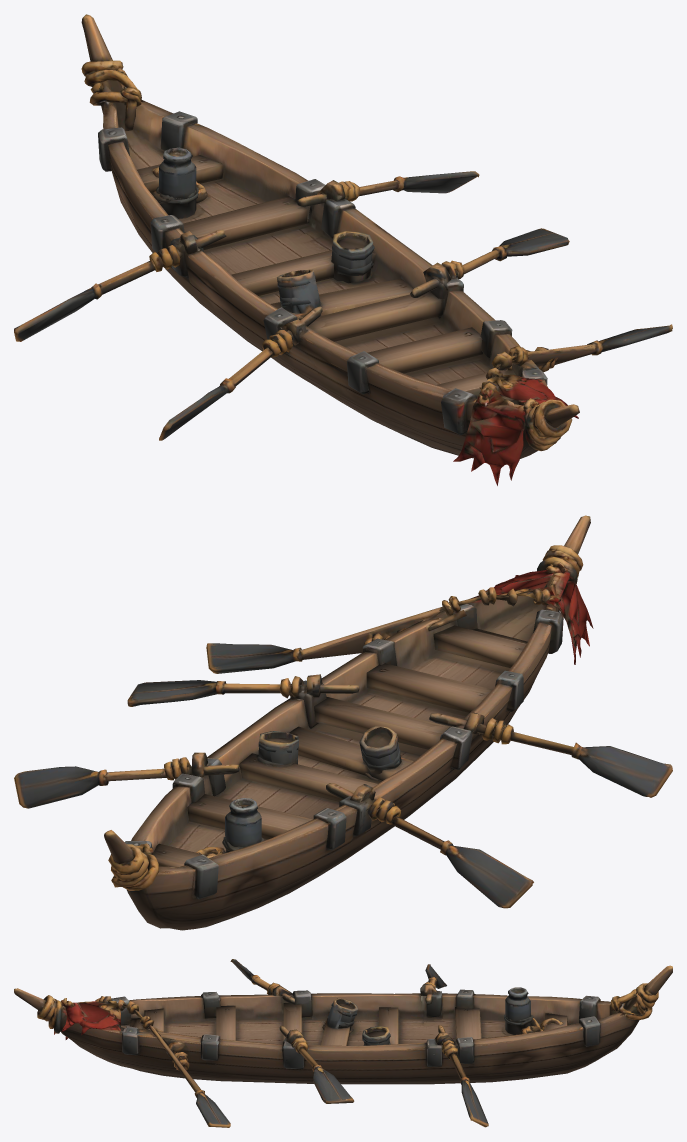
The model's file is scout.glb.
The picture shows the model from 3 angles, top to bottom: view 1: azimuth 30°, elevation 25°; view 2: azimuth 150°, elevation 25°; view 3: azimuth 270°, elevation 25°; orthographic projection. The views are drawn at different scales.
Visible parts, largest first — view 1: tripo_node_17614edd-f20e-4e0a-a458-74e1112fb22d; view 2: tripo_node_17614edd-f20e-4e0a-a458-74e1112fb22d; view 3: tripo_node_17614edd-f20e-4e0a-a458-74e1112fb22d.
Part boxes in pixels (x1,y1,x2,y2): tripo_node_17614edd-f20e-4e0a-a458-74e1112fb22d: (14,14,672,485); tripo_node_17614edd-f20e-4e0a-a458-74e1112fb22d: (14,515,672,930); tripo_node_17614edd-f20e-4e0a-a458-74e1112fb22d: (14,959,672,1127).
Bounding box in the file's own units: 1.17 × 0.332 × 2.
Materials: 1 (1 with a texture image).
